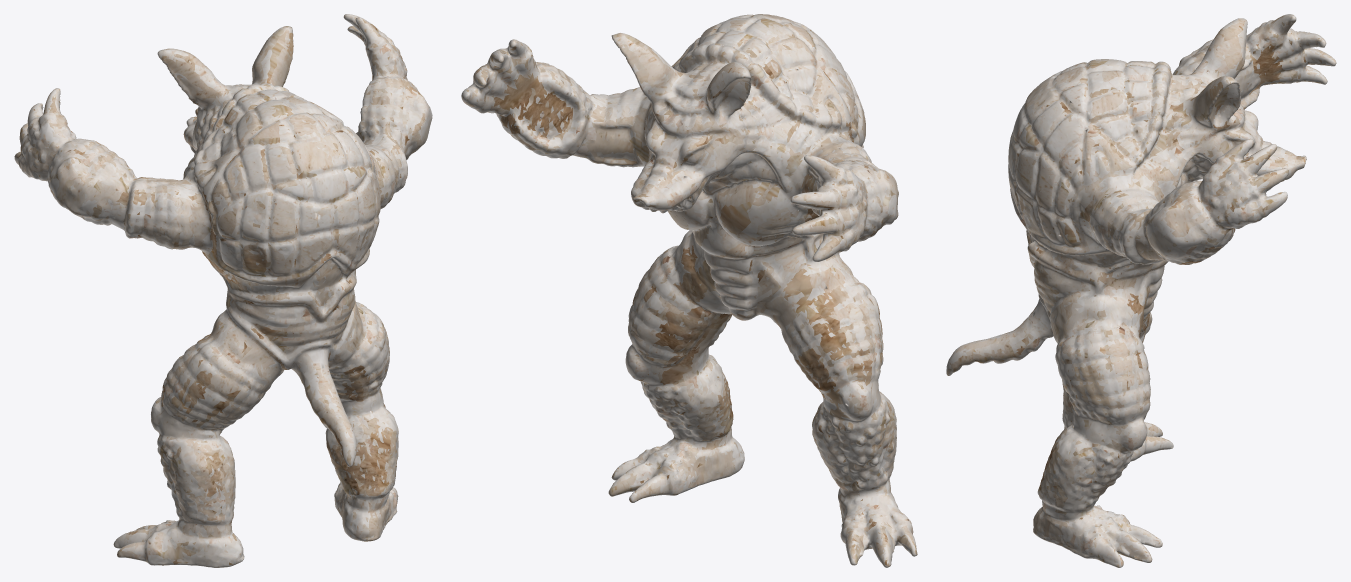
Rendered from armadillo.obj.
3 renders of one model, left to right at view 1: azimuth 30°, elevation 25°; view 2: azimuth 150°, elevation 25°; view 3: azimuth 270°, elevation 25°, orthographic. The views are drawn at different scales.
Parts seen in each view (by area): view 1: armadillo; view 2: armadillo; view 3: armadillo.
Boxes of the visible parts, x1,y1,x2,y2 form: armadillo: [14, 14, 432, 567]; armadillo: [461, 14, 917, 567]; armadillo: [946, 14, 1336, 567].
Bounding box in the file's own units: 127 × 151 × 115.
1 material, 1 textured.
